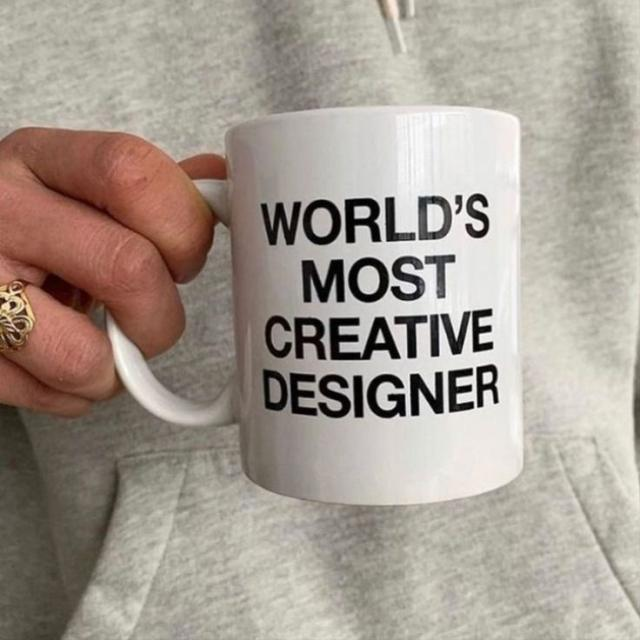glass cup: (107, 104, 525, 507)
